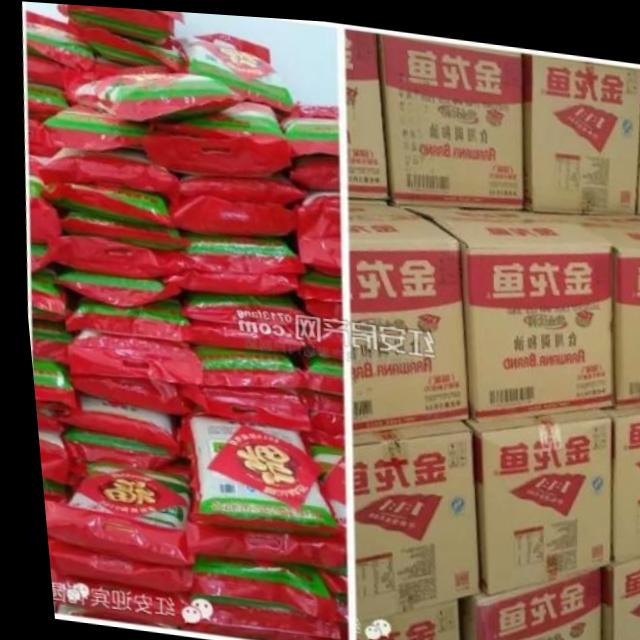box: (393, 199, 607, 418), (453, 401, 604, 590), (345, 194, 460, 429), (344, 413, 468, 618), (375, 28, 519, 201), (528, 205, 640, 399), (519, 47, 640, 205), (447, 558, 591, 640), (592, 394, 640, 554), (345, 24, 385, 194), (589, 545, 640, 640), (345, 594, 448, 640), (634, 105, 640, 205)
